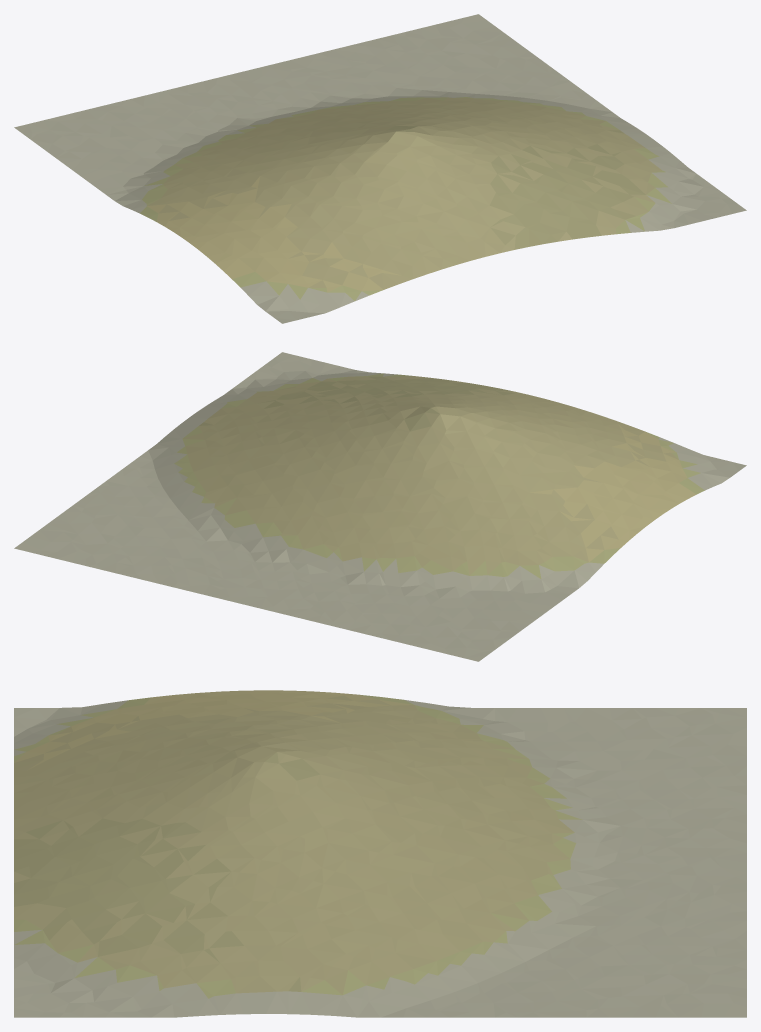
The model's file is Ground_-3_1.glb.
3 views of the same model, one above another, from view 1: azimuth 30°, elevation 25°; view 2: azimuth 150°, elevation 25°; view 3: azimuth 270°, elevation 25° (orthographic). The views are drawn at different scales.
Parts seen in each view (by area): view 1: Ground_-3_1; view 2: Ground_-3_1; view 3: Ground_-3_1.
Boxes of the visible parts, <box> form: Ground_-3_1: <box>14,14,746,323</box>; Ground_-3_1: <box>14,352,746,661</box>; Ground_-3_1: <box>14,690,746,1017</box>.
Size of the model in its own units: 768 by 111 by 768.
